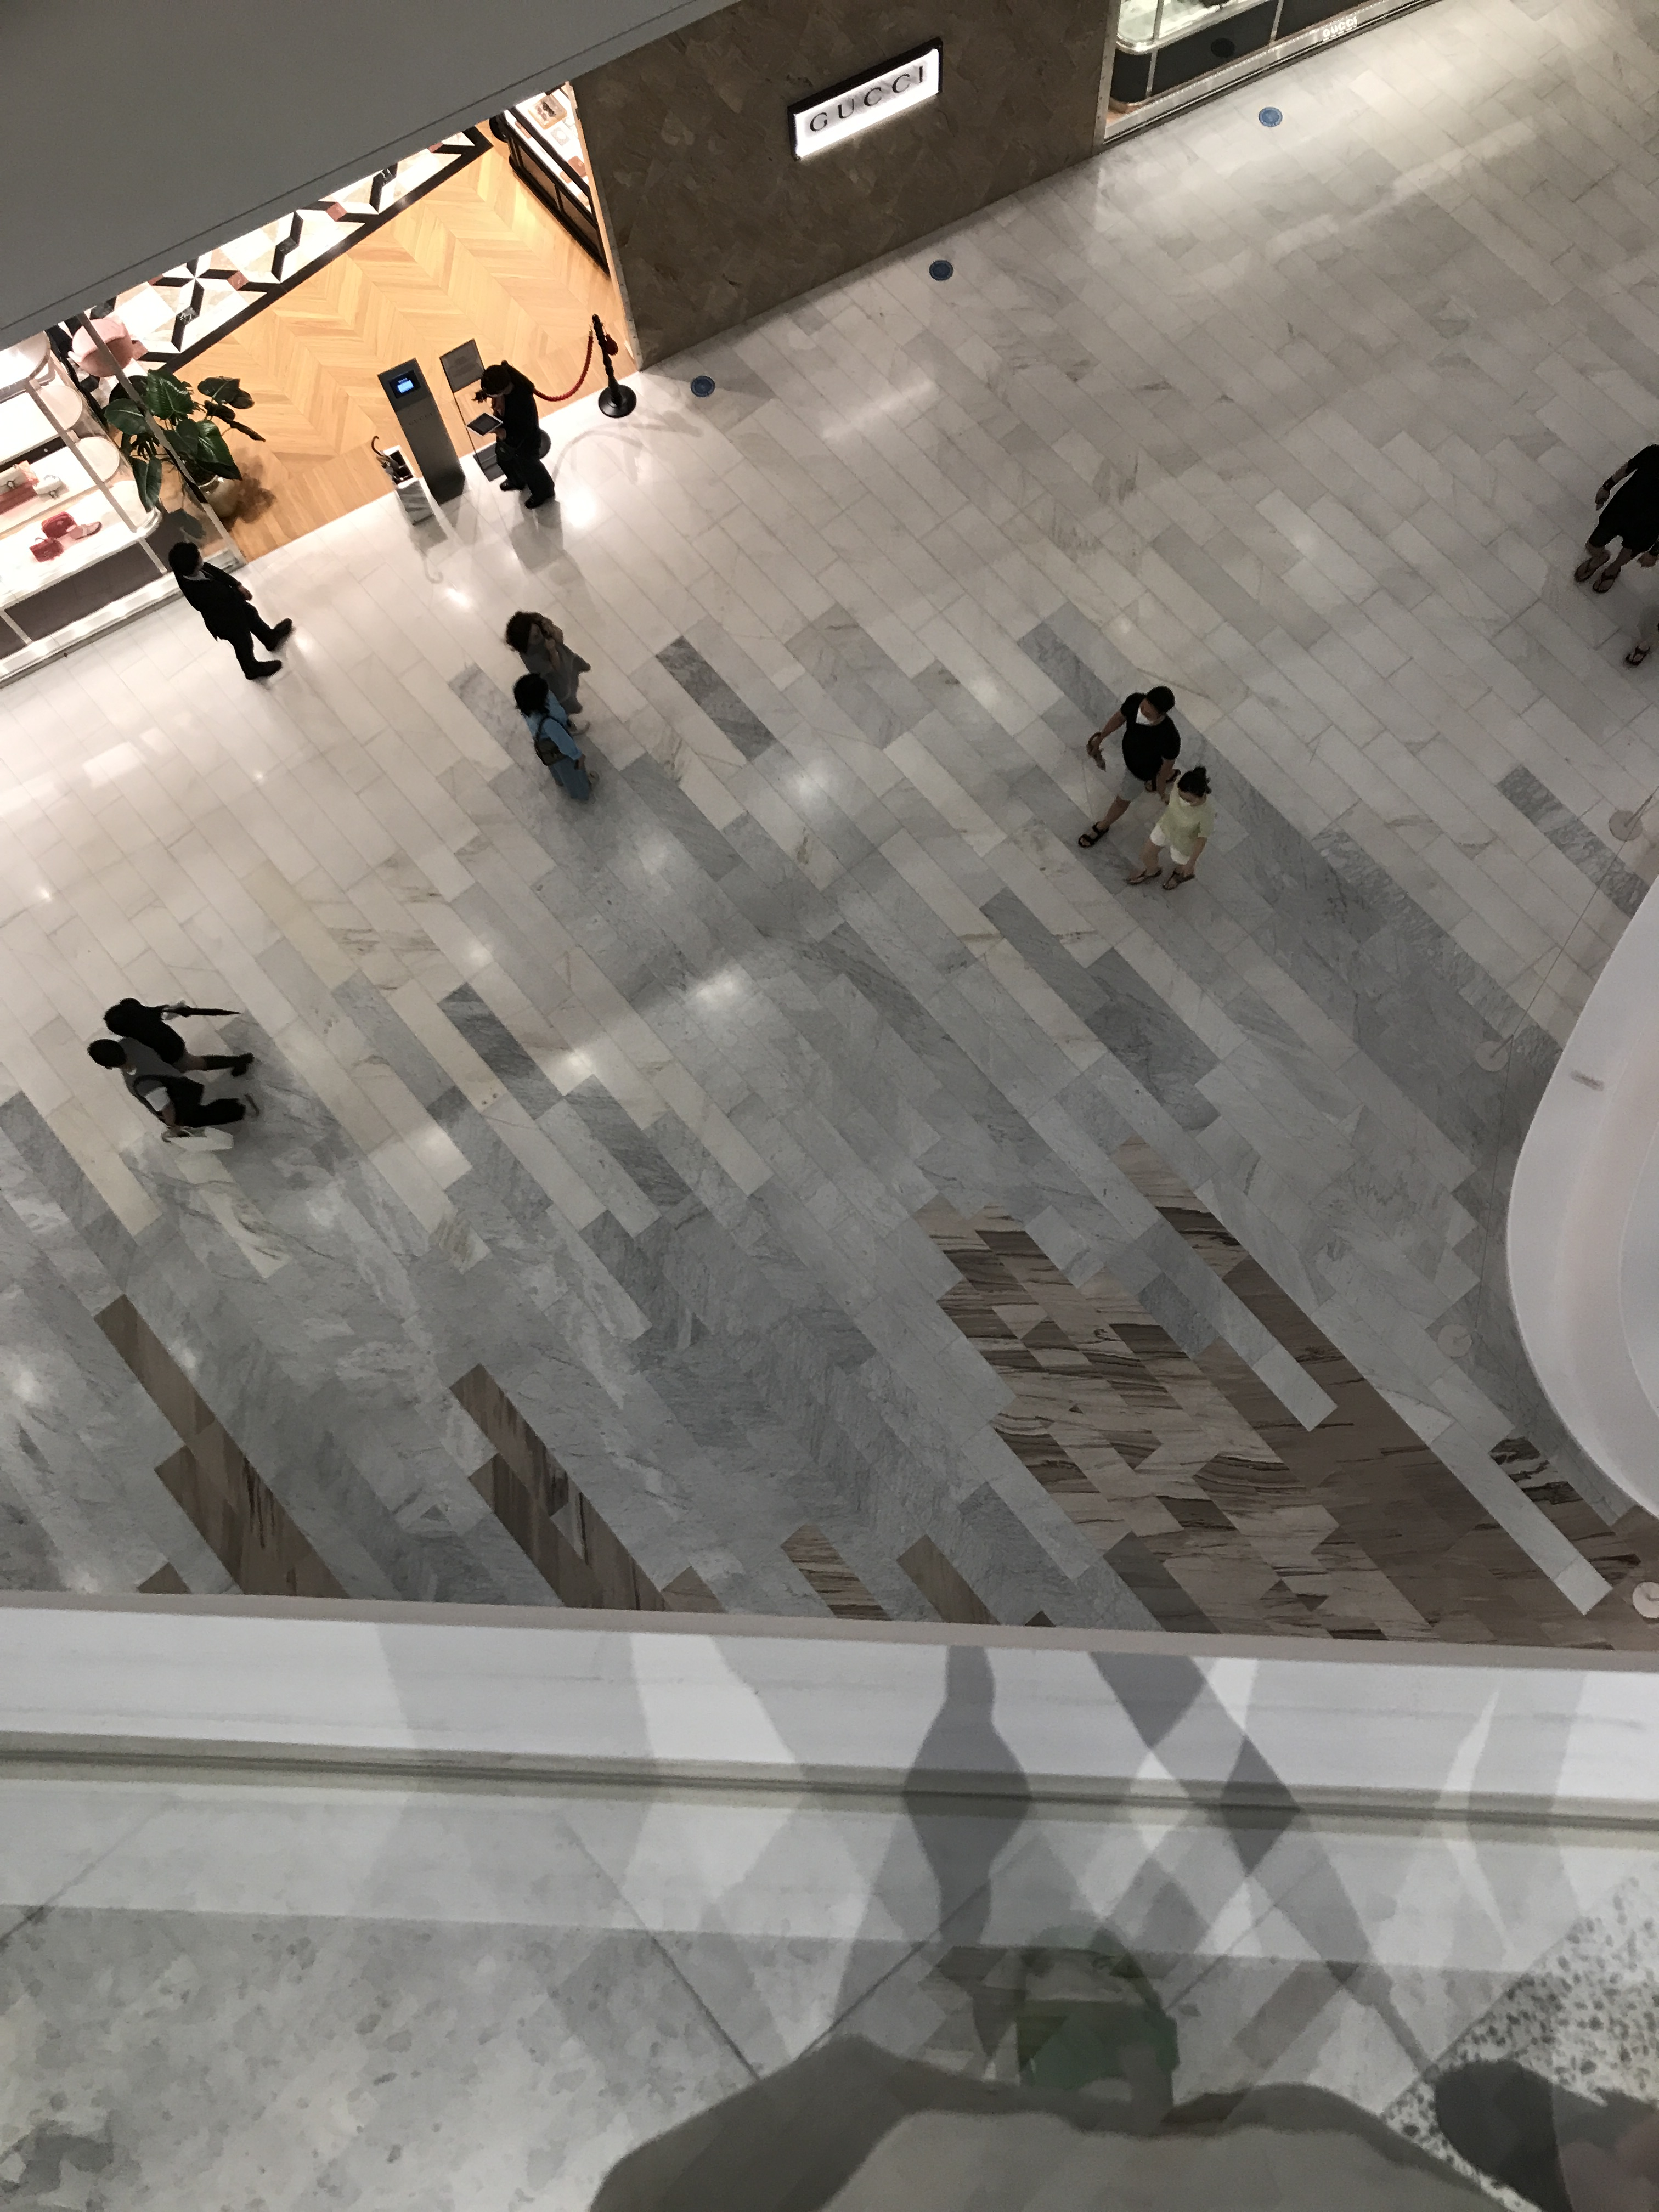person: (166, 540, 294, 684), (87, 1035, 262, 1135), (1077, 689, 1180, 850), (469, 361, 560, 511), (101, 996, 255, 1081), (1573, 442, 1659, 596), (1120, 764, 1222, 893), (512, 674, 604, 806), (504, 606, 589, 732)
